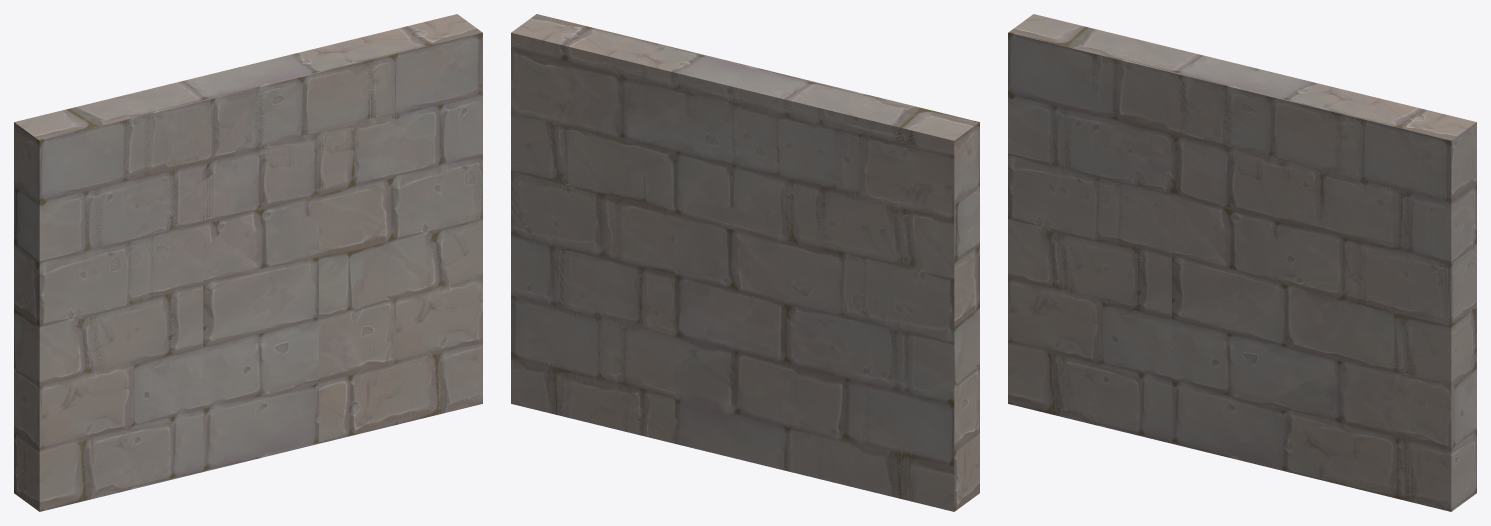
The model's file is SM_Module_sockets.fbx.
3 views of the same model, side by side, from view 1: azimuth 30°, elevation 25°; view 2: azimuth 150°, elevation 25°; view 3: azimuth 330°, elevation 25° (orthographic).
Visible parts, largest first — view 1: Wall_Traversable_Module, Wall_Module, Interior_Wall_Module; view 2: Wall_Module, Wall_Traversable_Module, Interior_Wall_Module; view 3: Wall_Module, Wall_Traversable_Module, Interior_Wall_Module.
Boxes of the visible parts, x1=… form: Wall_Traversable_Module: x1=14, y1=33, x2=482, y2=511; Wall_Module: x1=14, y1=14, x2=482, y2=511; Interior_Wall_Module: x1=39, y1=33, x2=482, y2=511; Wall_Module: x1=511, y1=14, x2=979, y2=511; Wall_Traversable_Module: x1=511, y1=33, x2=979, y2=511; Interior_Wall_Module: x1=511, y1=36, x2=954, y2=511; Wall_Module: x1=1008, y1=14, x2=1476, y2=511; Wall_Traversable_Module: x1=1008, y1=33, x2=1476, y2=511; Interior_Wall_Module: x1=1008, y1=33, x2=1451, y2=510.
Size of the model in its own units: 500 by 400 by 50.48.
1 material, 1 textured.
